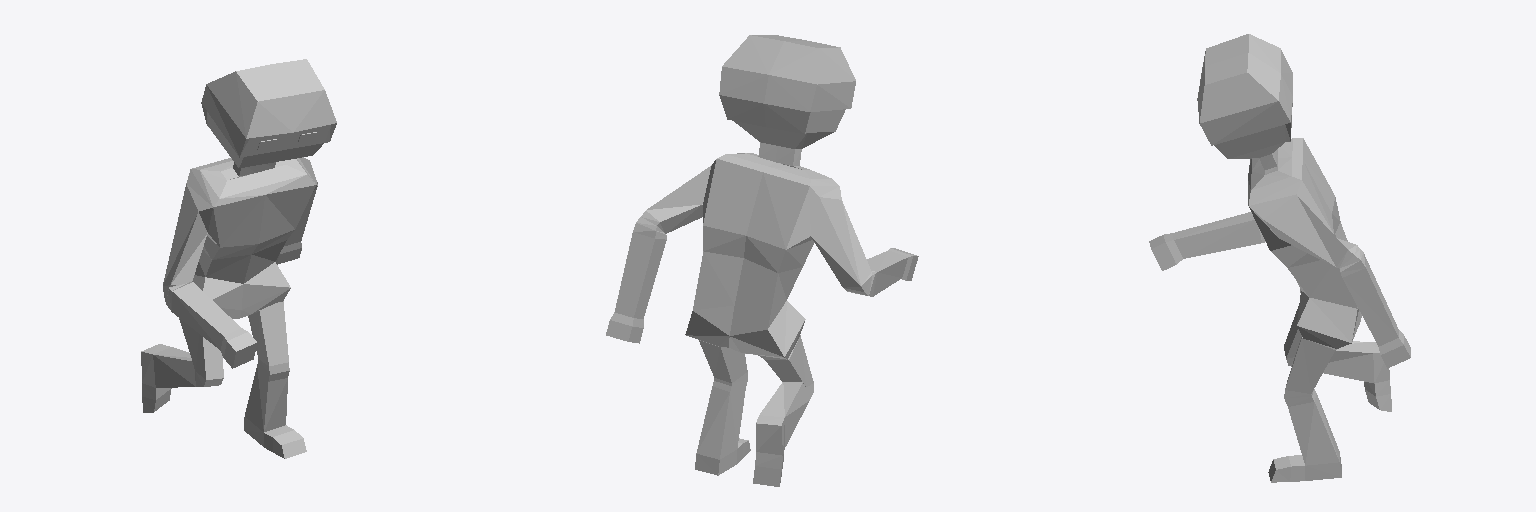
Rendered from kevin.obj.
The picture shows the model from 3 angles: view 1: azimuth 30°, elevation 25°; view 2: azimuth 150°, elevation 25°; view 3: azimuth 270°, elevation 25°; orthographic projection.
Bounding box in the file's own units: 1.01 × 2.03 × 1.18.